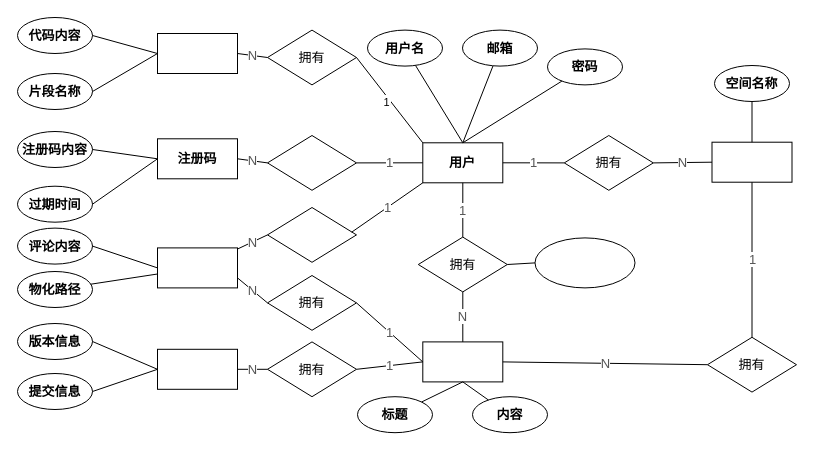
The diagram is 814 pixels wide and 451 high, and some of its shapes have lost their labels. Here are the shapes that lost their labels. From the top down, the centre of each, then its label:
At point 197,53: "代码片段".
At point 311,162: "使用".
At point 751,161: "幻灯片空间".
At point 311,234: "发表".
At point 197,267: "评论".
At point 584,262: "幻灯片中的用户角色".
At point 197,368: "历史版本".
At point 462,361: "幻灯片".
